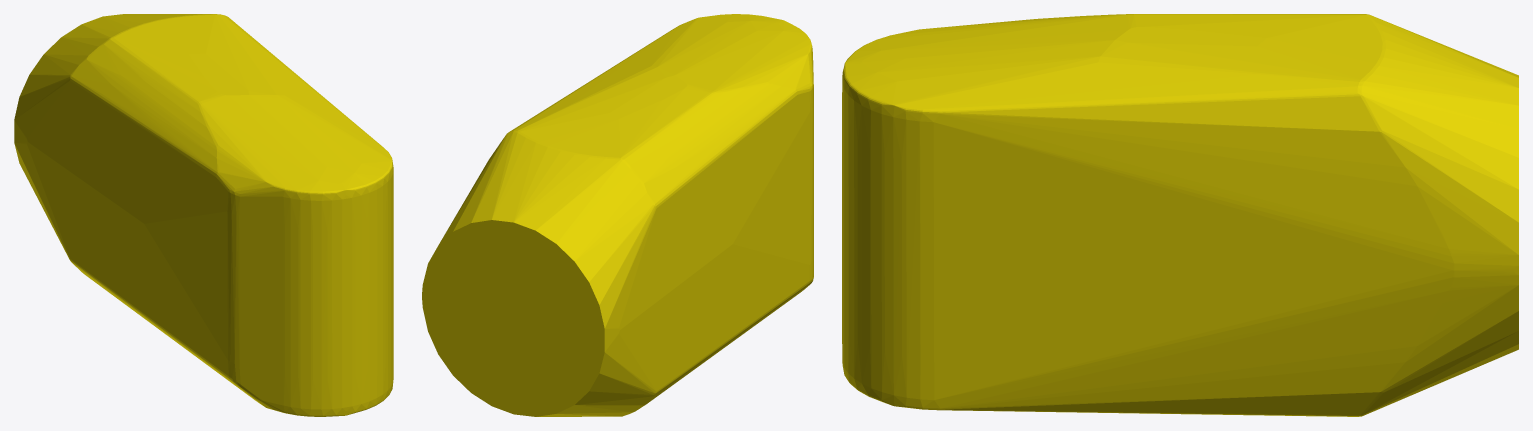
Rendered from forearm_link_collision.dae.
3 renders of one model, left to right at view 1: azimuth 30°, elevation 25°; view 2: azimuth 150°, elevation 25°; view 3: azimuth 270°, elevation 25°, orthographic. The views are drawn at different scales.
Parts seen in each view (by area): view 1: node; view 2: node; view 3: node.
Part boxes in pixels (bbox=[...]): node: bbox=[14, 14, 393, 416]; node: bbox=[422, 14, 813, 416]; node: bbox=[842, 14, 1518, 416].
Bounding box in the file's own units: 0.264 × 0.359 × 0.6512.
Materials: 1 (1 with a texture image).
